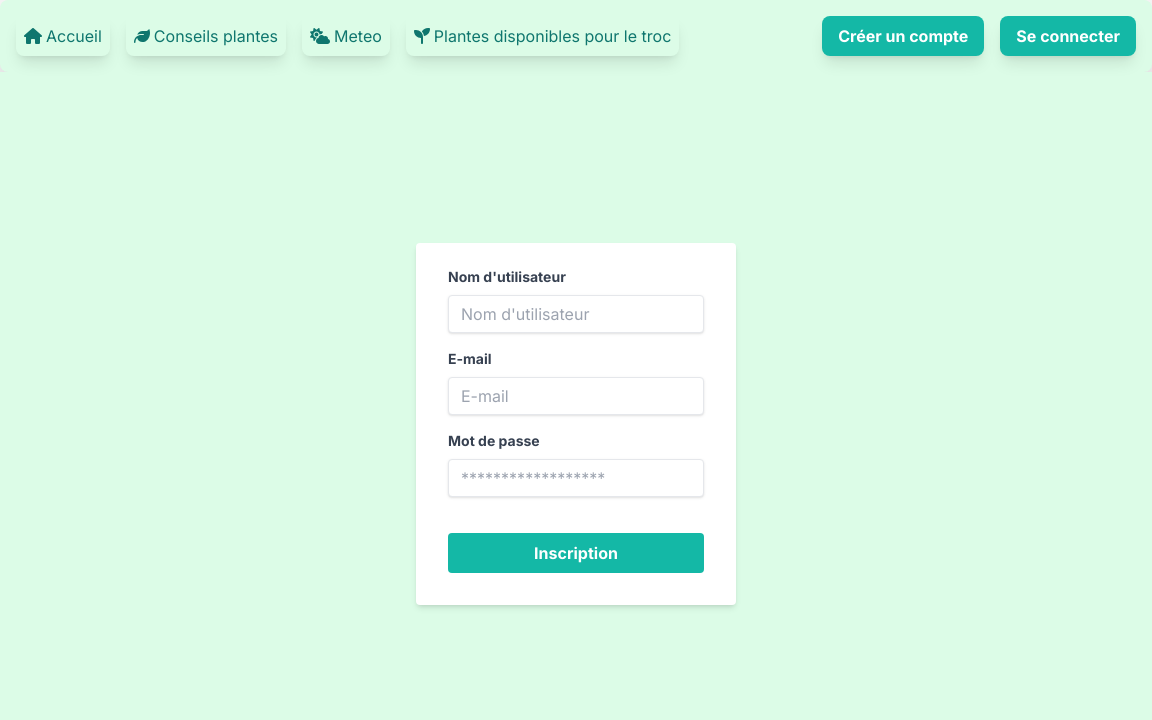
Inscription › should show an error for weak password
In the field with id "username": coordinates (576, 314) [448,295,704,333], type "testuser"
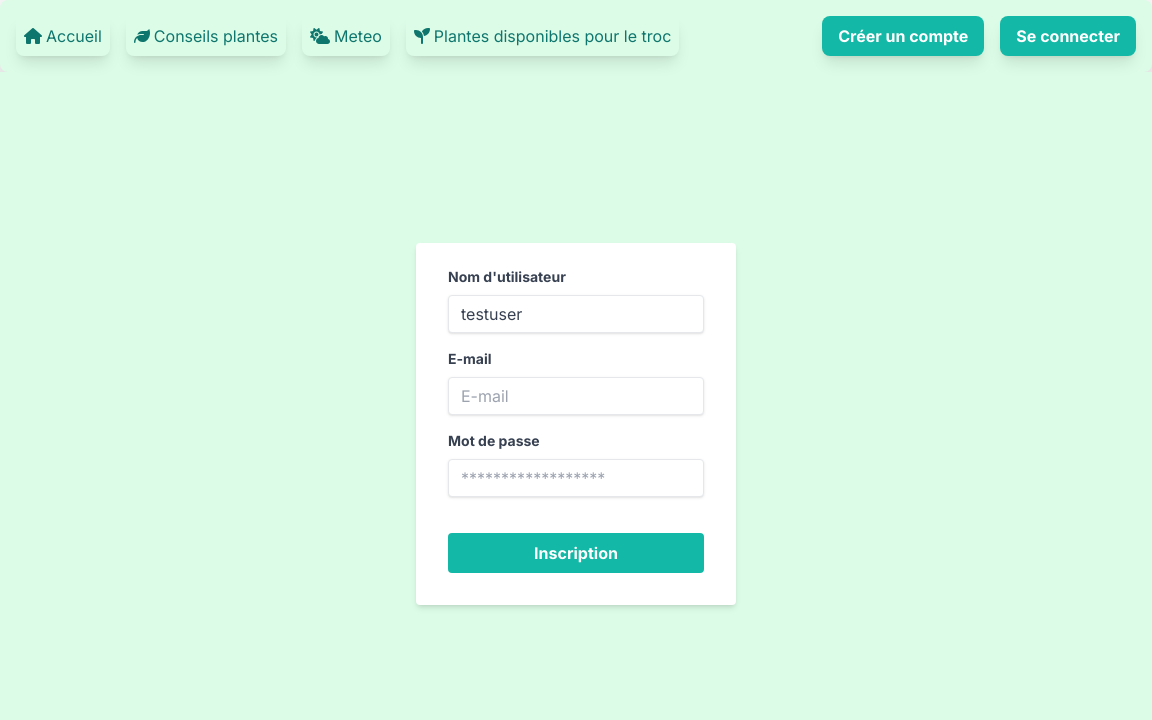
In the field with id "email": coordinates (576, 396) [448,377,704,415], type "test@example.com"
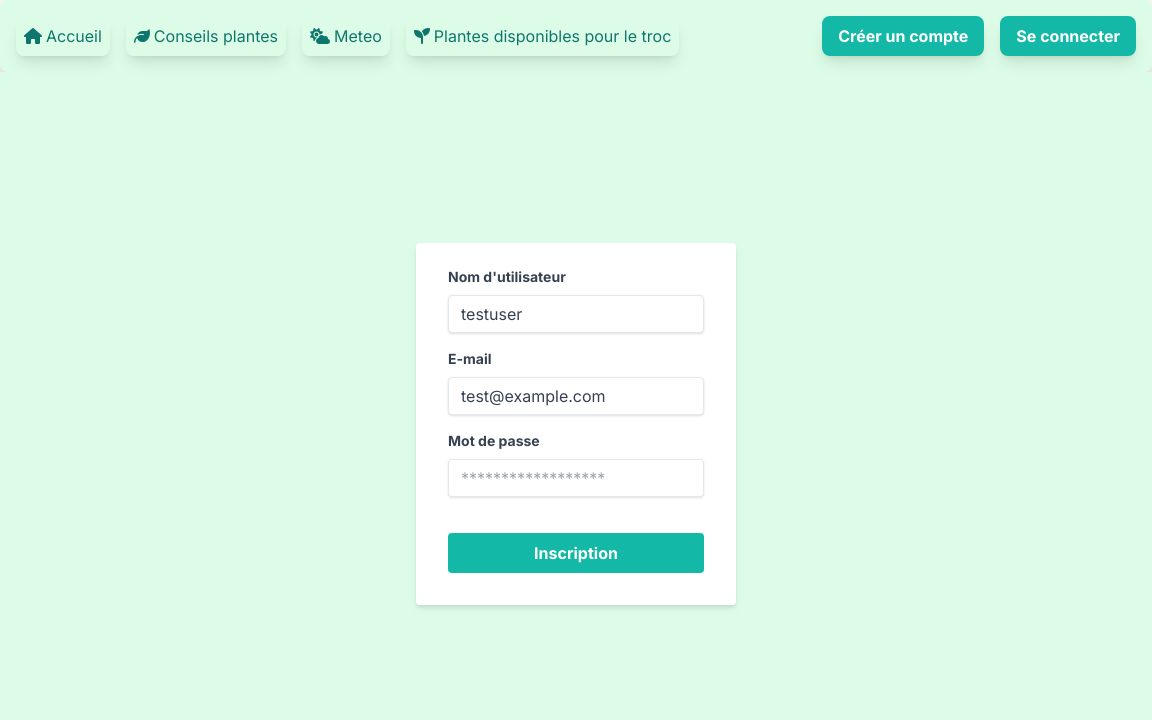
In the password field labelled "Mot de passe": coordinates (576, 478) [448,459,704,497], type "123"
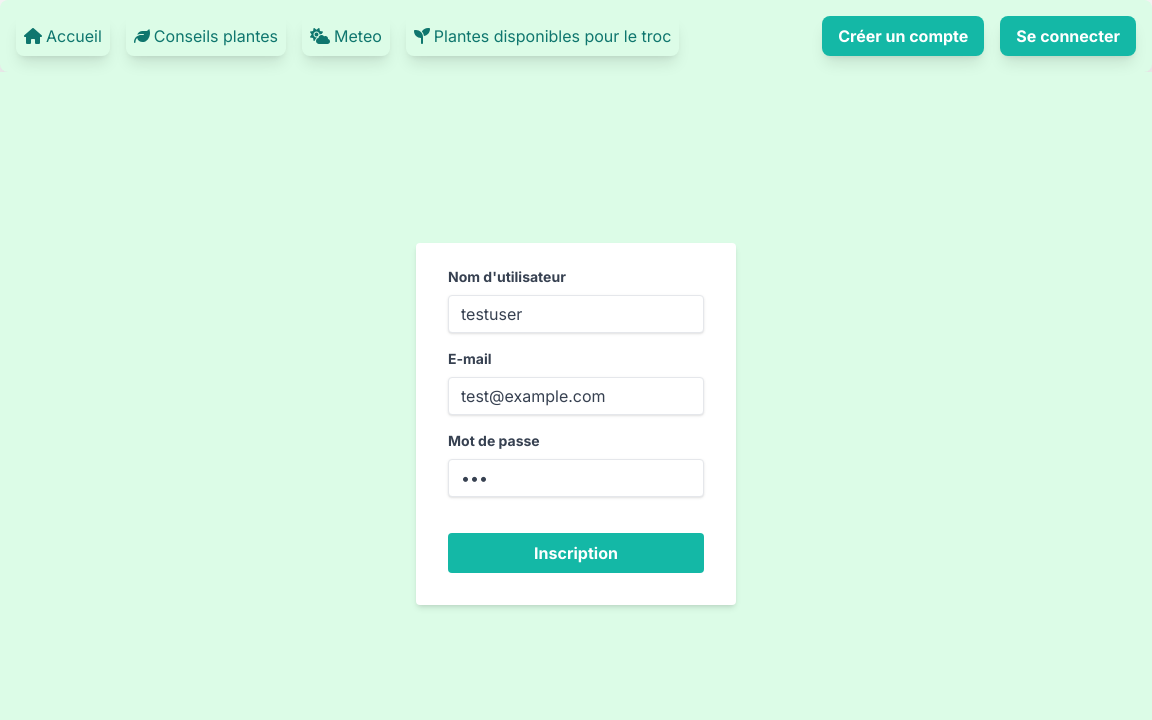
Click the submit button: coordinates (576, 553) [448,533,704,573]
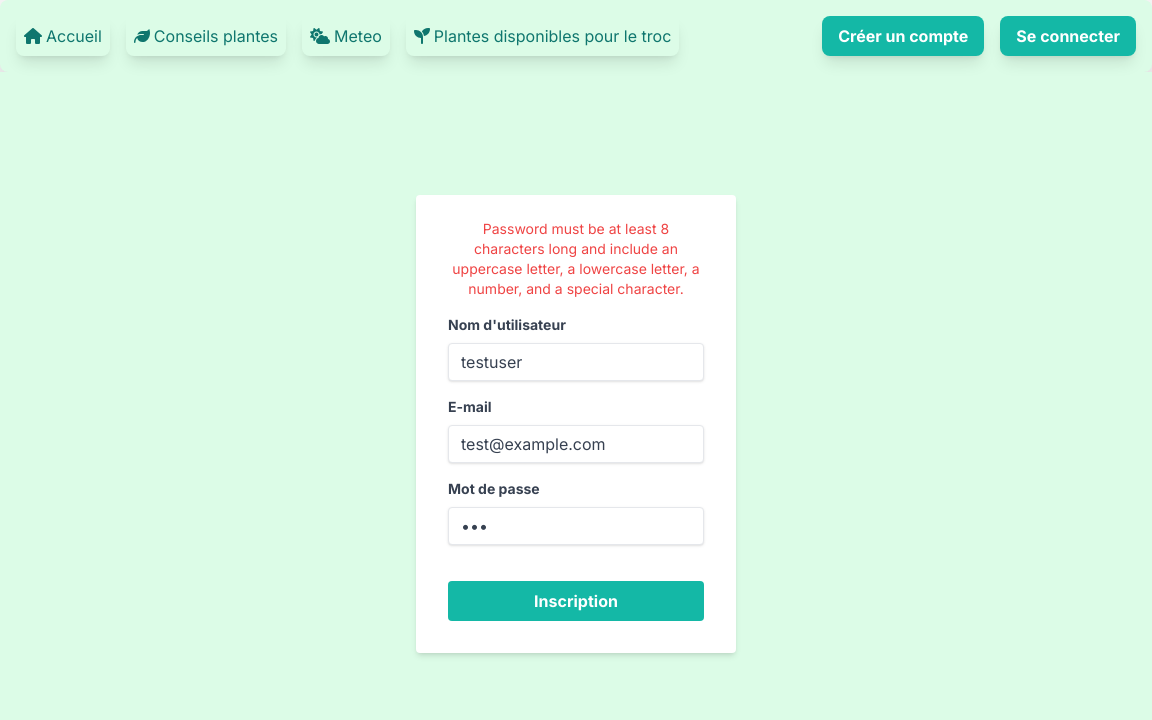
Expected: the text "Password must be at least 8 characters long and include an uppercase letter, a lowercase letter, a number, and a special" is shown, [452,220,699,297]
